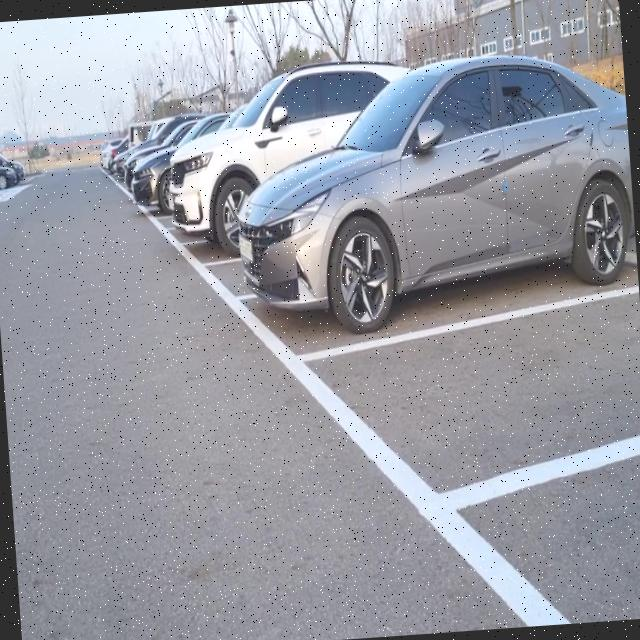empty: (290, 278, 640, 530)
occupied: (211, 88, 640, 376), (158, 137, 239, 294), (0, 152, 14, 193)
